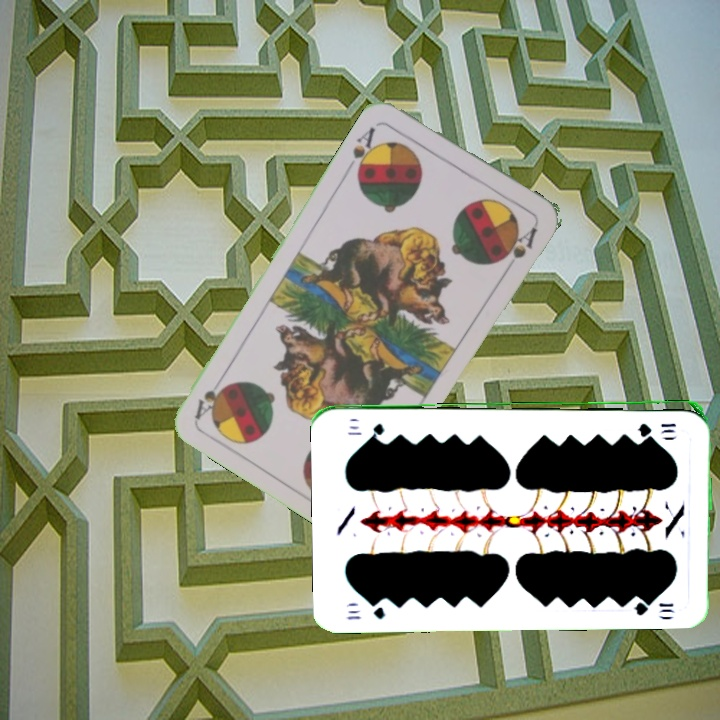G10: (343, 597, 388, 623), (633, 419, 678, 435)
SA: (343, 123, 382, 178)
